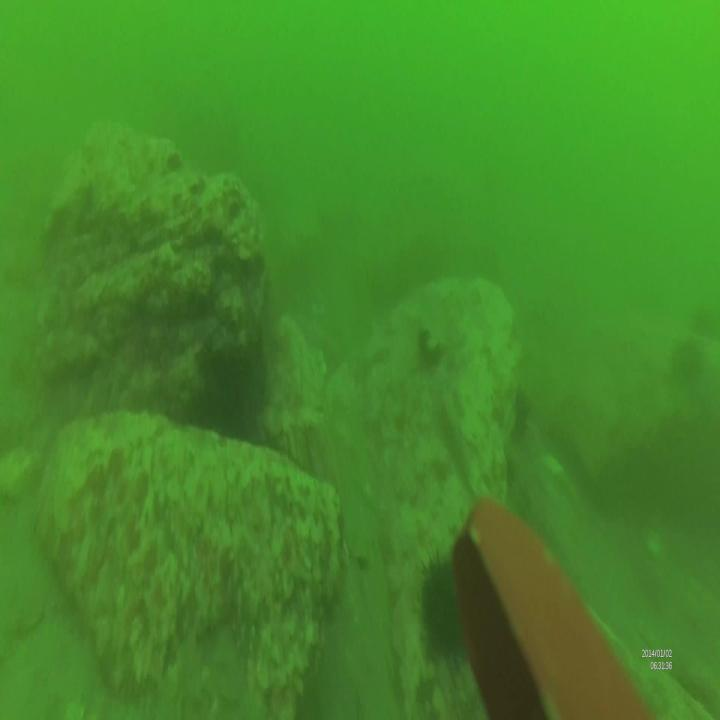echinus: (417, 554, 466, 660)
